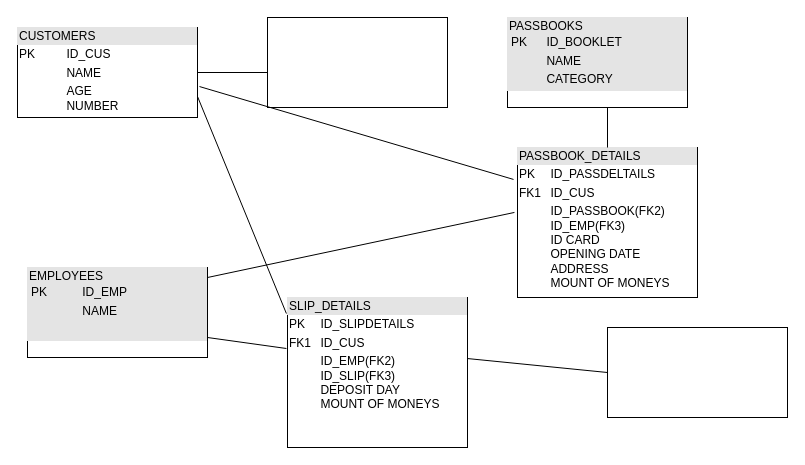
This 805x465 diagram has some shape labels left out. Here are the shapes that lost their labels. From the top down, the centre of each, then its label:
At point (357, 62): "ACCOUNTS PK ID_ACC FK1 ID_CUS NAME_ACC".
At point (697, 372): "SLIPS PK ID_SLIP NAME CATEGORY TERM".
